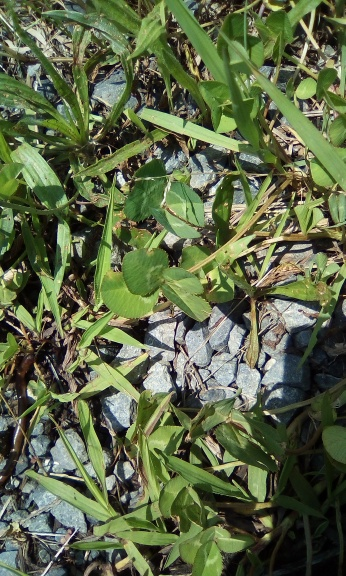4leaf: (99, 246, 213, 324)
